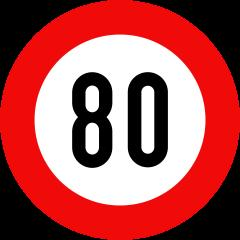Speed Limit -80-: (60, 67, 176, 178)
